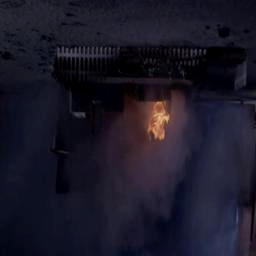fire: (137, 94, 185, 147)
smoke: (33, 150, 224, 253)
